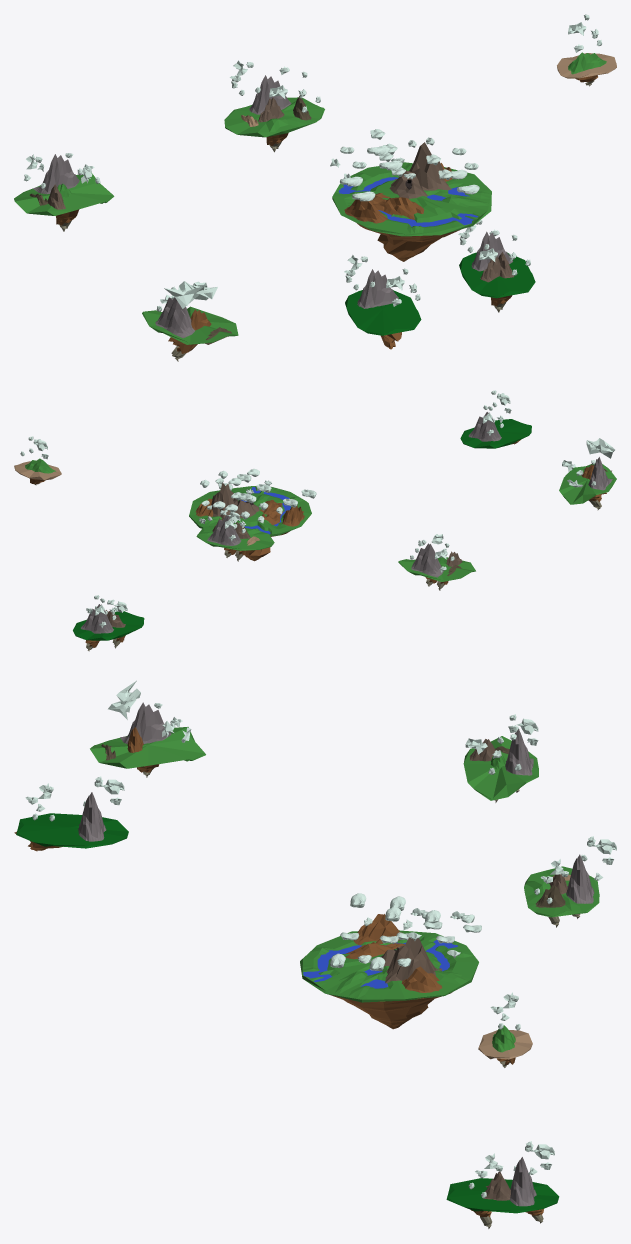
File: InselnNEW.fbx
The picture shows the model from 3 angles, top to bottom: view 1: azimuth 30°, elevation 25°; view 2: azimuth 150°, elevation 25°; view 3: azimuth 270°, elevation 25°; orthographic projection. The views are drawn at different scales.
Parts seen in each view (by area): view 1: Ground, Ground_2_8, Ground_2_5, Ground_2_4, Ground_2_6, Ground_2, Water_2_13, Plane, Landschaft_20, Landschaft_1, Landschaft_1_8, Landschaft_1_4 (+8 smaller); view 2: Ground, Ground_2_8, Ground_2, Ground_2_6, Ground_2_5, Ground_2_4, Landschaft_1_4, Landschaft_1_5, Landschaft_1_8, Landschaft_1_6, Landschaft_20, Ground_2_10 (+1 smaller); view 3: Ground, Ground_2_8, Ground_2, Ground_2_4, Ground_2_6, Ground_2_5, Water_2_13, Landschaft_20, Plane, Landschaft_1, Ground_2_10, Landschaft_1_8 (+4 smaller).
Part boxes in pixels (box(x1,y1,x2,y2)): Ground: box(332, 162, 491, 236); Ground_2_8: box(345, 290, 421, 335); Ground_2_5: box(224, 97, 324, 137); Ground_2_4: box(14, 173, 114, 215); Ground_2_6: box(459, 252, 535, 298); Ground_2: box(142, 306, 238, 344); Water_2_13: box(357, 223, 460, 261); Plane: box(338, 177, 478, 226); Landschaft_20: box(395, 142, 451, 190); Landschaft_1: box(155, 297, 194, 338); Landschaft_1_8: box(357, 269, 398, 308); Landschaft_1_4: box(33, 154, 79, 194); Ground: box(189, 486, 311, 536); Ground_2_8: box(460, 419, 531, 448); Ground_2: box(559, 464, 616, 504); Ground_2_6: box(73, 611, 144, 640); Ground_2_5: box(196, 525, 274, 550); Ground_2_4: box(398, 557, 475, 581); Landschaft_1_4: box(411, 543, 443, 577); Landschaft_1_5: box(207, 515, 241, 545); Landschaft_1_8: box(468, 412, 501, 441); Landschaft_1_6: box(81, 604, 113, 633); Landschaft_20: box(211, 483, 237, 519); Ground_2_10: box(14, 461, 61, 480); Ground: box(300, 930, 478, 1002); Ground_2_8: box(16, 813, 128, 848); Ground_2: box(90, 727, 205, 768); Ground_2_4: box(463, 736, 538, 800); Ground_2_6: box(446, 1178, 559, 1213); Ground_2_5: box(524, 866, 599, 917); Water_2_13: box(330, 992, 452, 1029); Landschaft_20: box(385, 937, 441, 983); Plane: box(303, 940, 457, 988); Landschaft_1: box(120, 702, 171, 743); Ground_2_10: box(478, 1030, 532, 1059); Landschaft_1_8: box(78, 792, 106, 841).
Size of the model in its own units: 40717 by 16657 by 31436.
